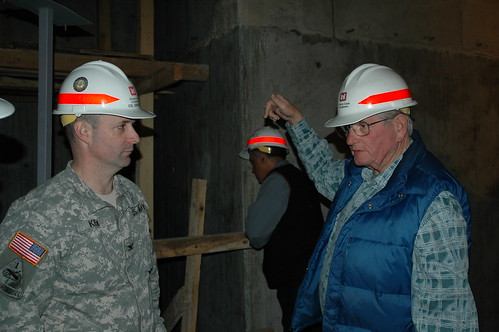person hardhat: (293, 59, 475, 332), (3, 62, 166, 331), (242, 123, 325, 323)
